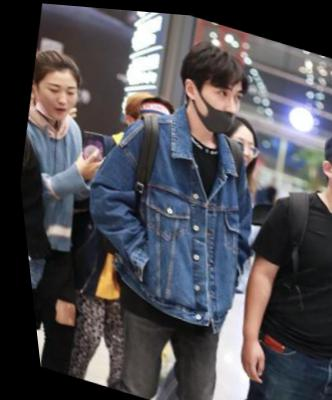NONE: (221, 124, 259, 172), (327, 149, 332, 205)
WRONG: (188, 71, 248, 138), (29, 73, 80, 126)
